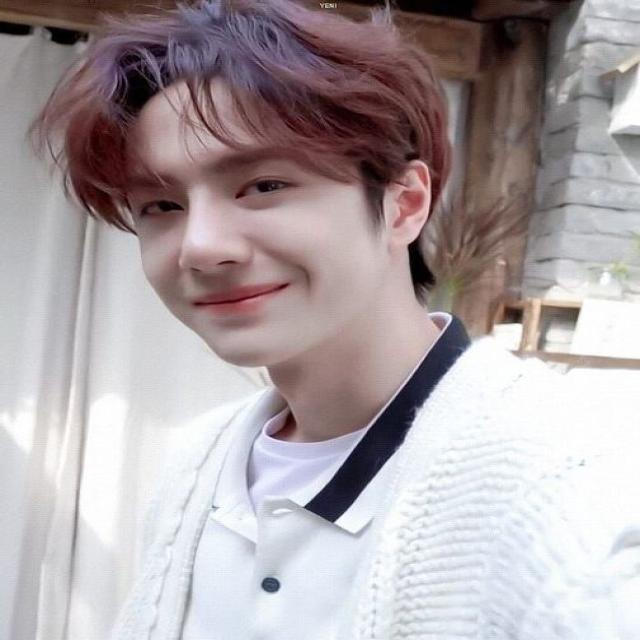Nonhelmet: (26, 1, 457, 371)
